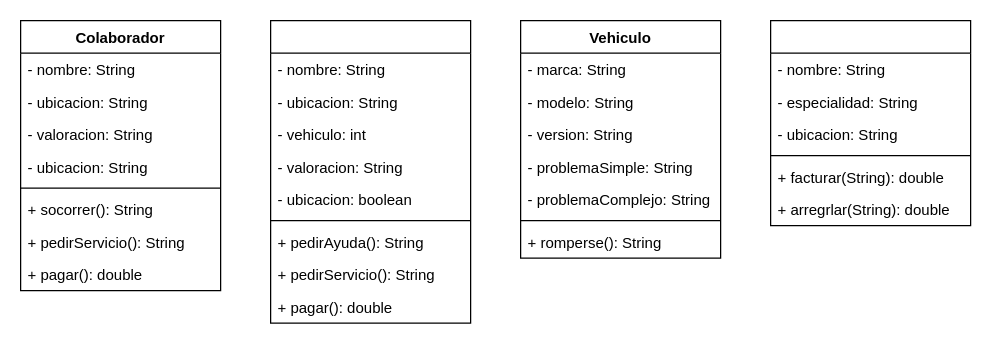
Image size: 991x344. Some labels were removed from this diagram. Here are the shapes that lost their labels. From the top down, the box of each, then its label:
(769, 19, 971, 226): Profesional
(269, 19, 471, 323): Usuario
